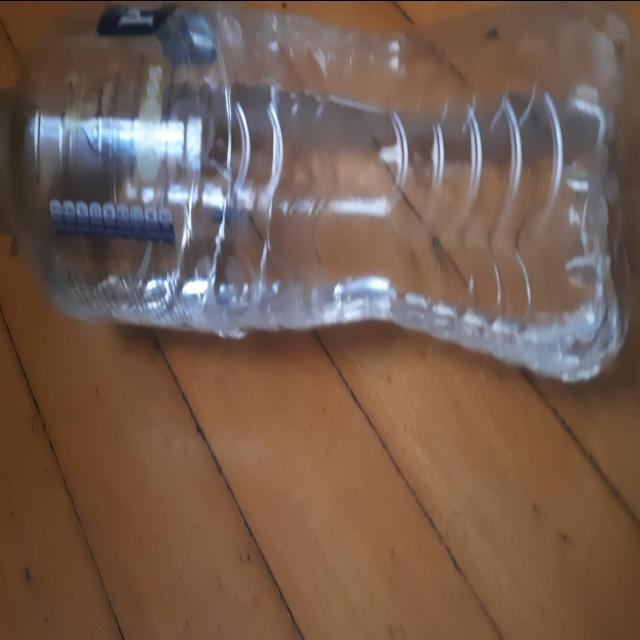Plastic: (0, 0, 640, 382)
